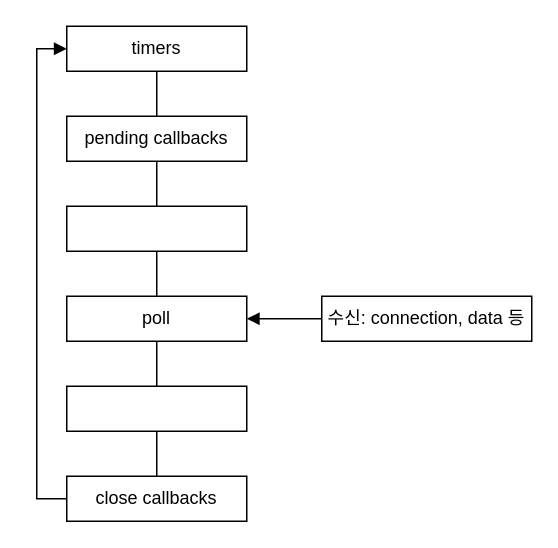
Some shapes in this 558 by 548 pixel diagram are drawn without their labels. Each missing label, with the centre of its shape:
"check" belongs at point (156, 408).
"idle, prepare" belongs at point (156, 228).
